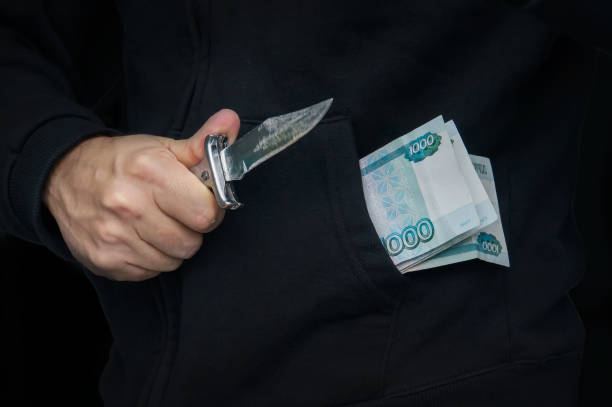knife: (188, 96, 335, 211)
